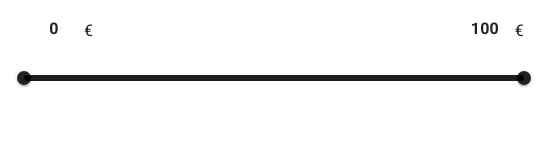
Componente <Range /> - Ejercicio 1 (Rango Normal) › debe modificar los valores al simular el arrastre físico del slider (mouseMove)
The image size is (549, 160).
Step 1. Press the mouse on the slider with test id "bullet-min" → (24, 78), box left=17, top=71, right=31, bottom=85
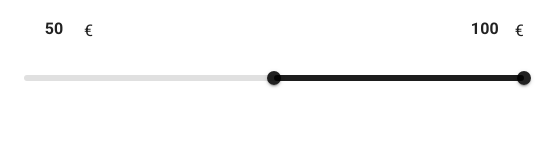
Result: the field with test id "input-min" holds "50" at left=24, top=16, right=84, bottom=45
